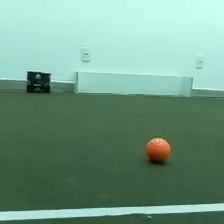ball: (144, 136, 172, 165)
goal: (73, 69, 195, 98)
robot: (24, 69, 52, 94)
